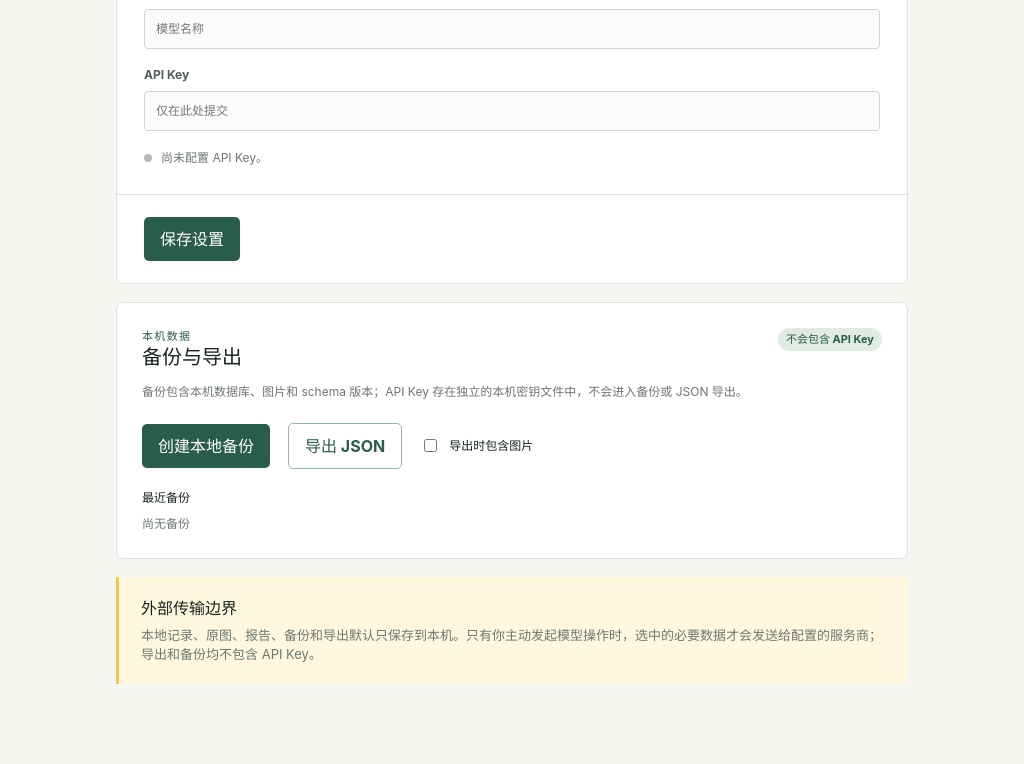
Scenario: SettingsPage › creates a local backup and refreshes recent backup status
(page scrolled)
Step 1. Click the button "创建本地备份" → (206, 446), box [142,424,270,468]
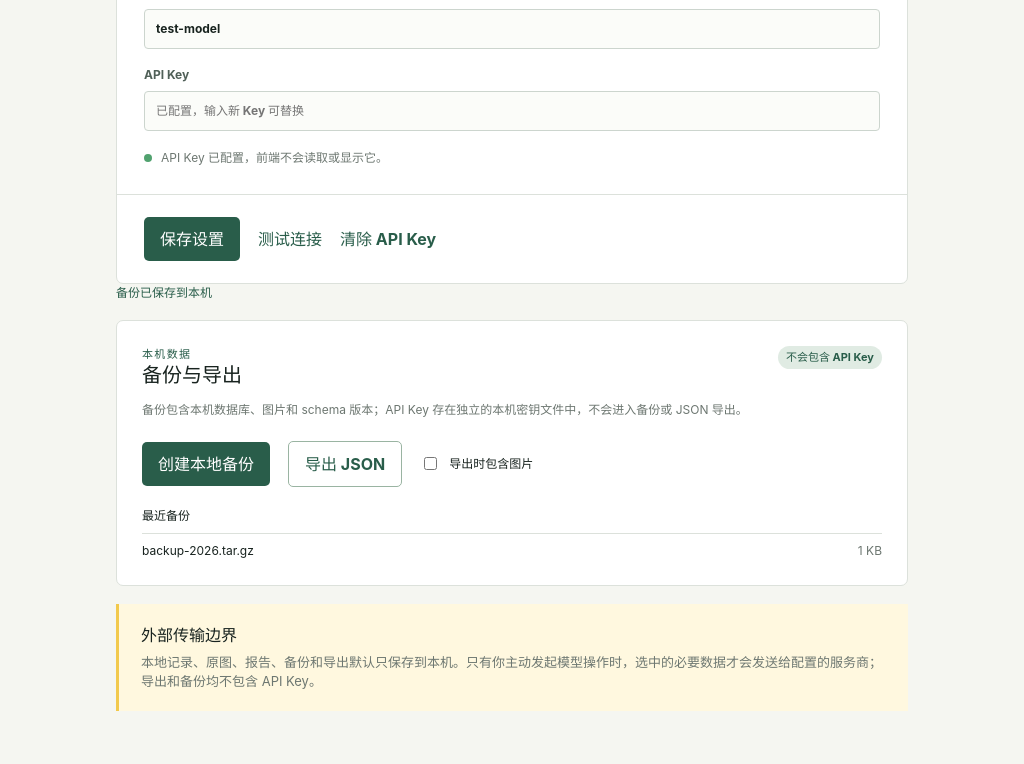
Now the text "backup-2026.tar.gz" is shown, box [142,542,254,560]
